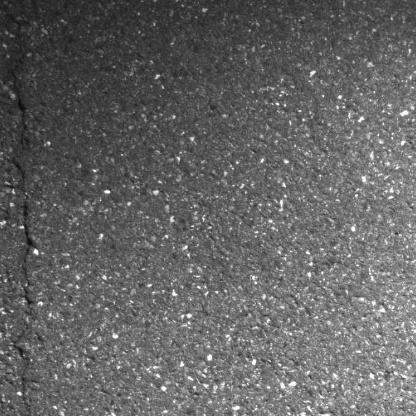Cracks: (8, 154, 41, 416), (8, 10, 34, 152)
